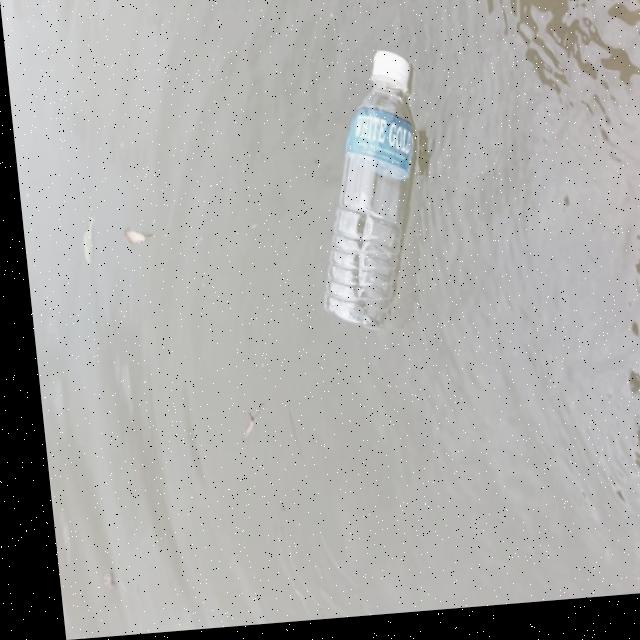leaf: (63, 200, 168, 283), (214, 410, 260, 454)
waterbottle: (291, 42, 461, 356)
